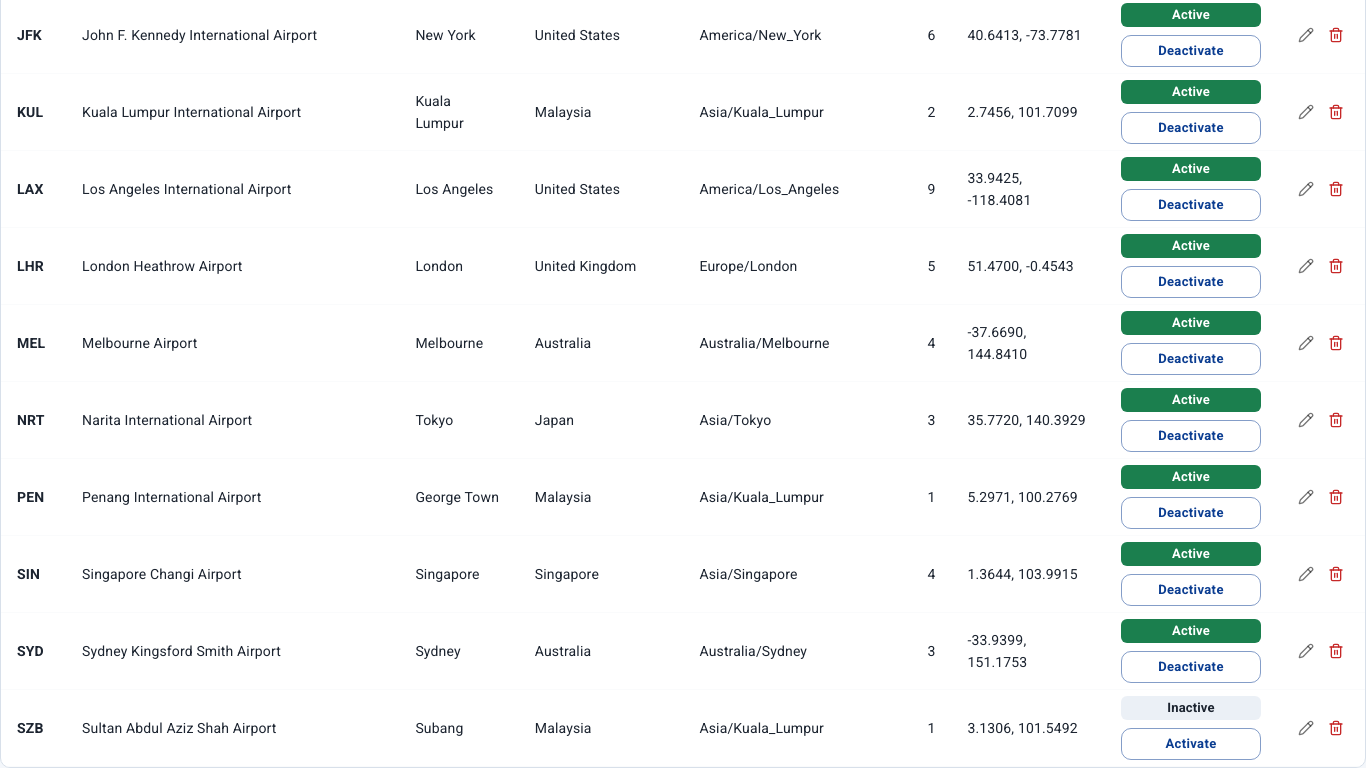
Test case: AdminAirportsPage › shows toggle and delete errors and can cancel delete
(page scrolled)
Expected: the text "SZB" is shown, 17,720 -> 44,736
Click the button "Activate".
click(1191, 744)  # box 1121,728 -> 1261,760
(page scrolled)
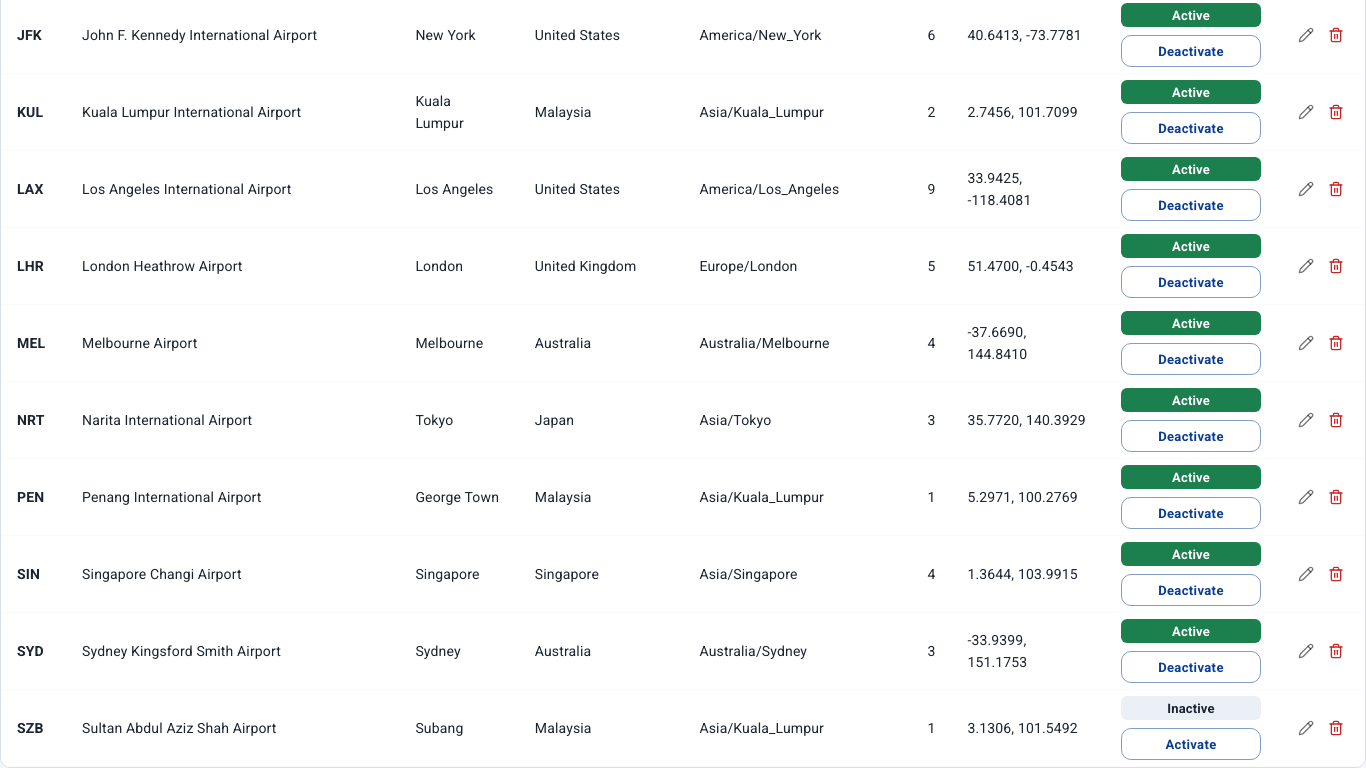
Click the button named "Delete SZB".
click(1336, 728)  # box 1323,715 -> 1349,741
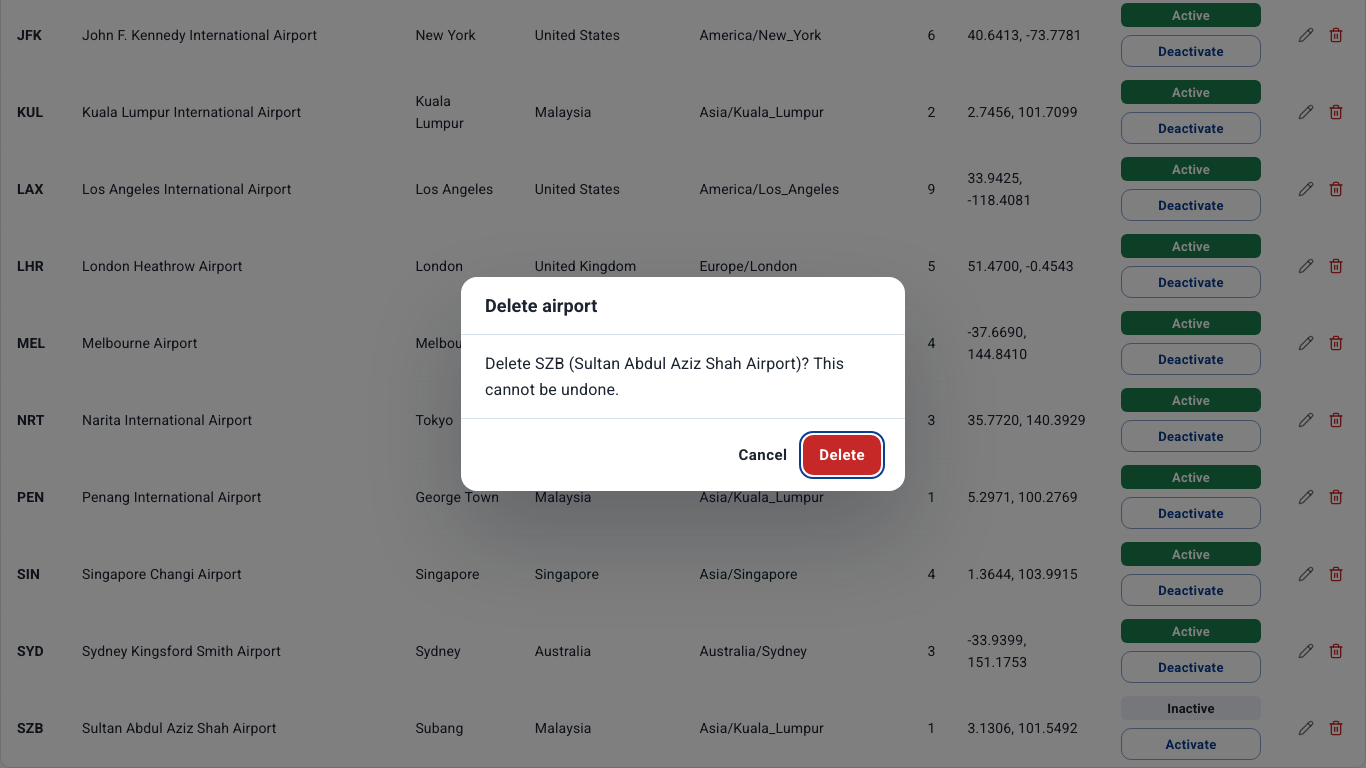
Click the button "Cancel".
click(763, 455)  # box 731,435 -> 795,475
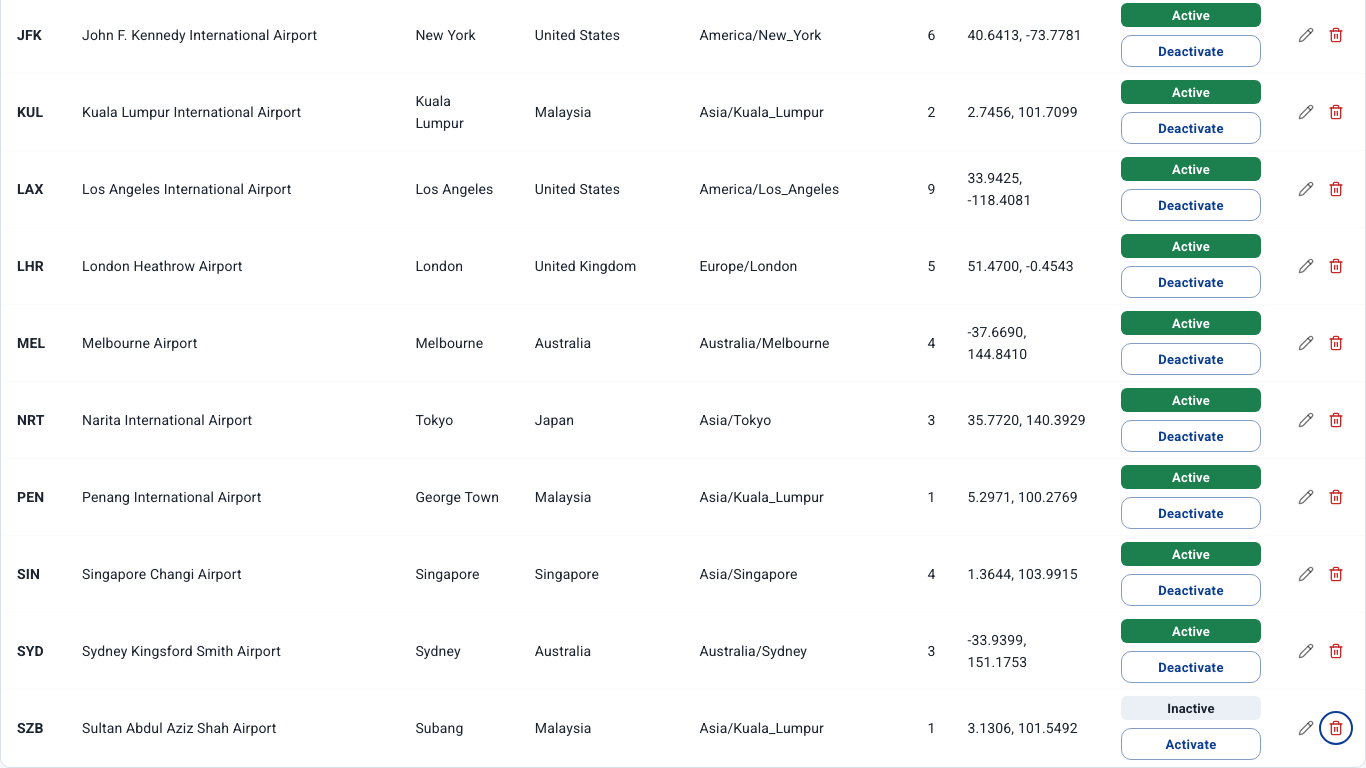
Expected: the heading "Delete airport" is gone
Click the button named "Delete SZB".
click(1336, 728)  # box 1323,715 -> 1349,741
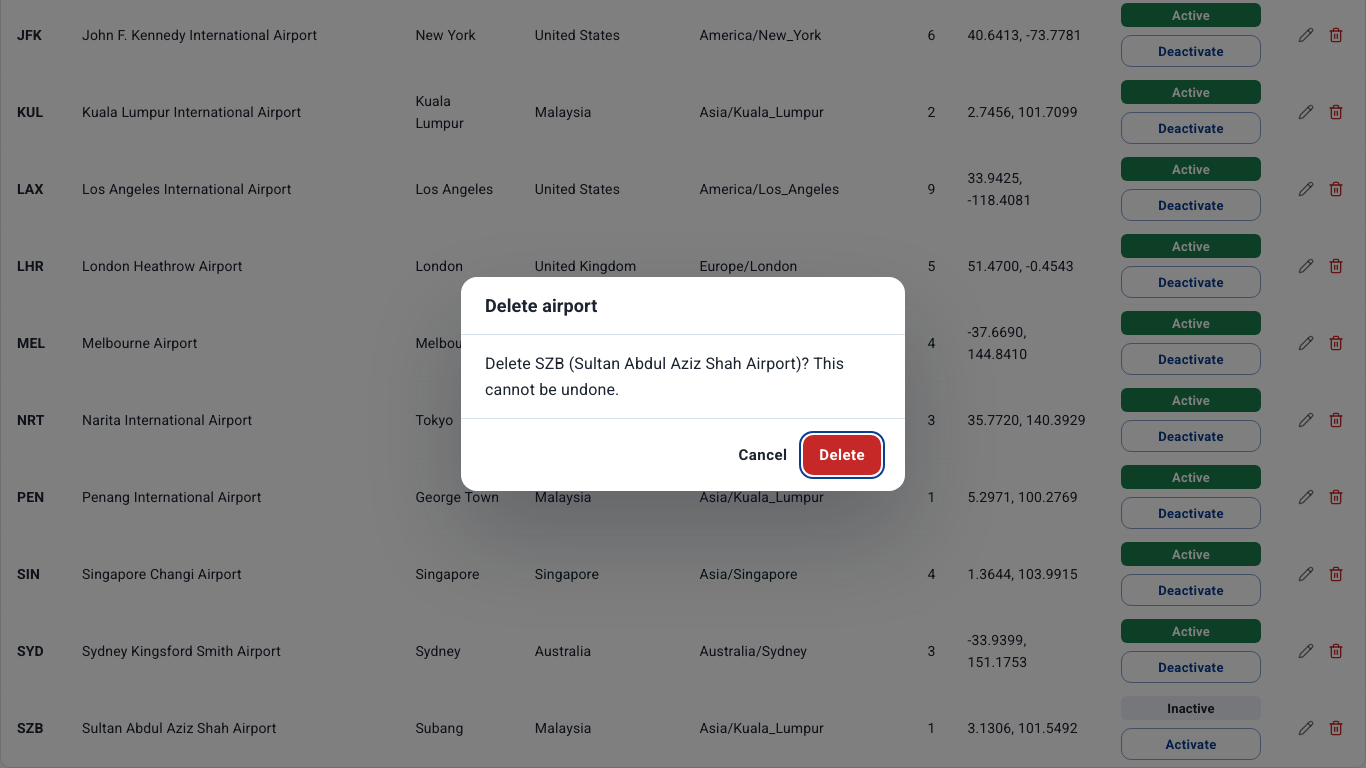
Click the button "Delete".
click(842, 455)  # box 803,435 -> 881,475
(page scrolled)
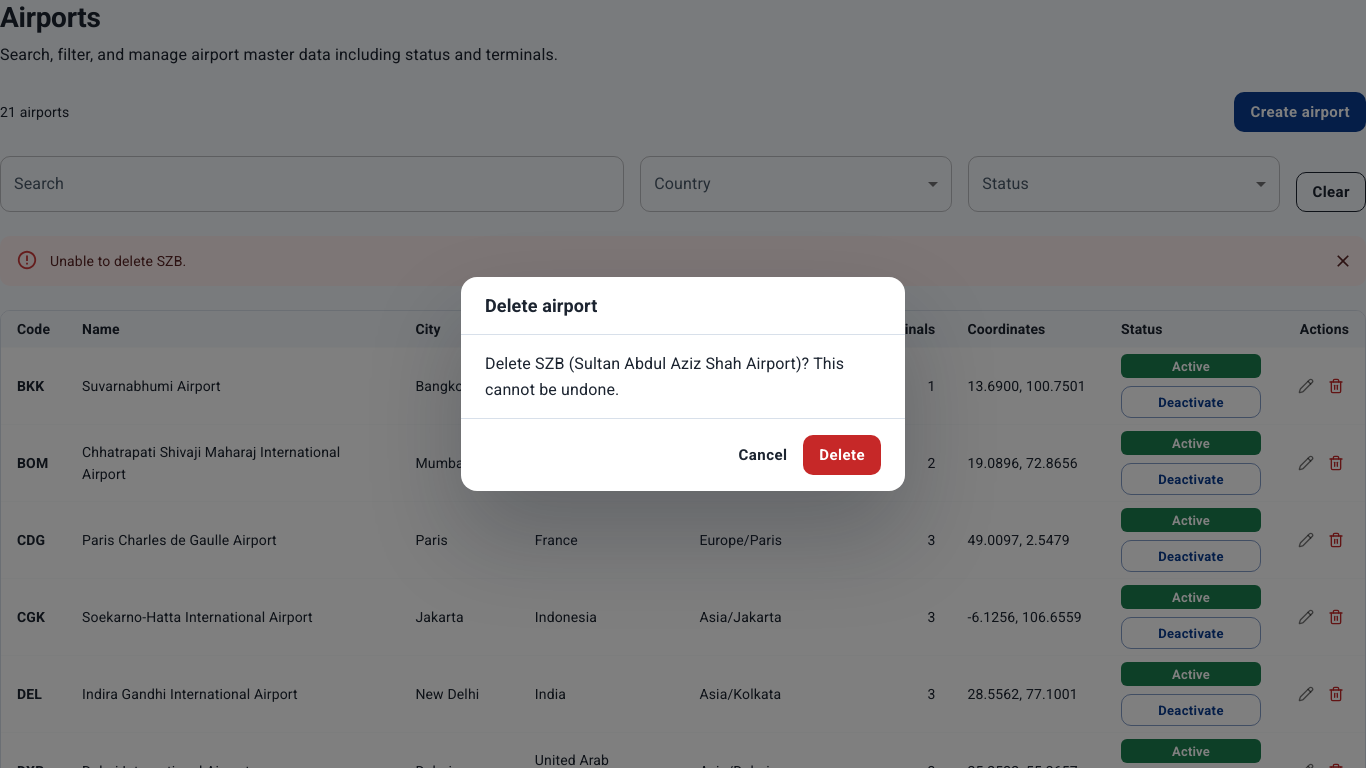
Expected: the text "Unable to delete SZB." is shown, 50,253 -> 186,269
